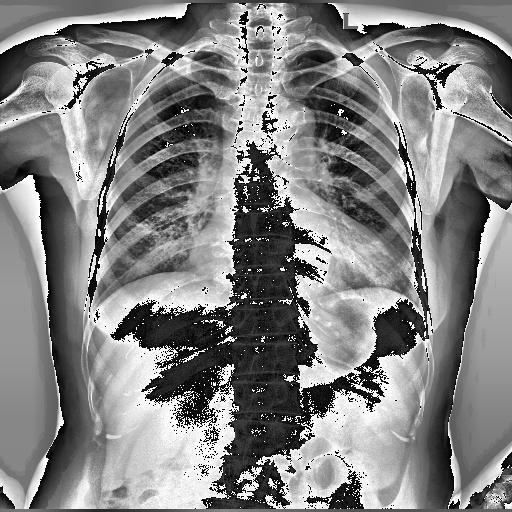0- Aortic enlargement: (256, 98, 321, 156), (264, 96, 318, 160), (274, 102, 316, 142)
3- Cardiomegaly: (183, 234, 404, 300), (194, 216, 400, 284), (190, 230, 393, 290)
